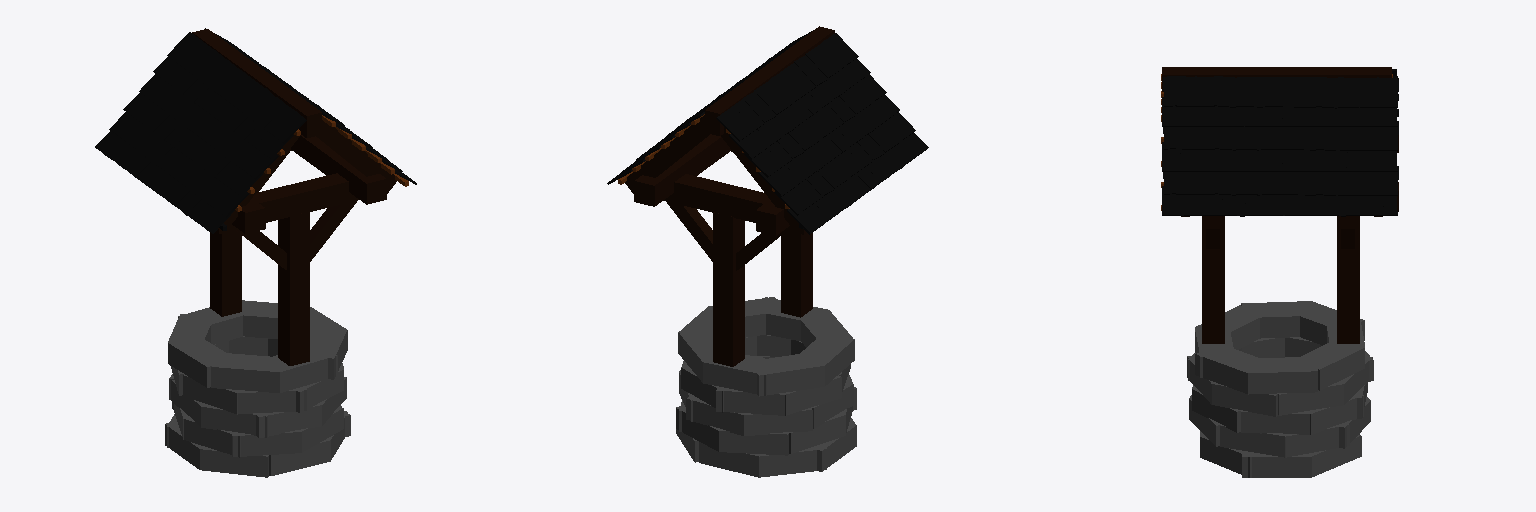
Rendered from firstMaterials_well.obj.
The picture shows the model from 3 angles: view 1: azimuth 30°, elevation 25°; view 2: azimuth 150°, elevation 25°; view 3: azimuth 270°, elevation 25°; orthographic projection.
Visible parts, largest first — view 1: post.001_Cube.029, beam_Cube.030, post_Cube.028, Cube.004_Cube.042, brick.038_Cube.026, beam.003_Cube.033, brick.037_Cube.027, brick.012_Cube.014, Cube.003_Cube.041, brick.005_Cube.011, brick.016_Cube.016, brick.031_Cube.023 (+18 smaller); view 2: post_Cube.028, beam.001_Cube.031, post.001_Cube.029, beam.003_Cube.033, Cube.004_Cube.042, brick.036_Cube.026, brick.037_Cube.027, Cube.001_Cube.039, brick.035_Cube.025, brick.009_Cube.013, brick.028_Cube.022, brick.021_Cube.019 (+19 smaller); view 3: post_Cube.028, post.001_Cube.029, Cube.004_Cube.042, brick.033_Cube.025, brick.032_Cube.024, brick.037_Cube.027, brick.034_Cube.024, brick_Cube.001, brick.018_Cube.016, brick.026_Cube.020, brick.025_Cube.021, brick.014_Cube.014 (+25 smaller).
Boxes of the visible parts, box(x1,y1,x2,y2) form: post.001_Cube.029: box(278, 212, 309, 365); beam_Cube.030: box(216, 173, 358, 233); post_Cube.028: box(210, 230, 241, 316); Cube.004_Cube.042: box(192, 29, 321, 137); brick.038_Cube.026: box(211, 352, 283, 392); beam.003_Cube.033: box(291, 135, 386, 204); brick.037_Cube.027: box(168, 334, 227, 387); brick.012_Cube.014: box(231, 430, 301, 456); Cube.003_Cube.041: box(316, 120, 396, 193); brick.005_Cube.011: box(200, 447, 268, 477); brick.016_Cube.016: box(255, 403, 321, 437); brick.031_Cube.023: box(237, 389, 306, 413); post_Cube.028: box(713, 212, 744, 366); beam.001_Cube.031: box(663, 174, 806, 234); post.001_Cube.029: box(781, 231, 812, 317); beam.003_Cube.033: box(634, 134, 731, 206); Cube.004_Cube.042: box(705, 26, 834, 135); brick.036_Cube.026: box(748, 354, 824, 396); brick.037_Cube.027: box(794, 333, 854, 385); Cube.001_Cube.039: box(625, 115, 709, 193); brick.035_Cube.025: box(703, 355, 766, 395); brick.009_Cube.013: box(719, 429, 788, 455); brick.028_Cube.022: box(716, 389, 784, 415); brick.021_Cube.019: box(743, 408, 812, 435); post_Cube.028: box(1337, 229, 1359, 343); post.001_Cube.029: box(1202, 229, 1224, 343); Cube.004_Cube.042: box(1162, 67, 1391, 91); brick.033_Cube.025: box(1248, 357, 1317, 394); brick.032_Cube.024: box(1195, 344, 1270, 393); brick.037_Cube.027: box(1241, 301, 1313, 338); brick.034_Cube.024: box(1294, 342, 1364, 390); brick_Cube.001: box(1242, 453, 1311, 477); brick.018_Cube.016: box(1241, 410, 1309, 434); brick.026_Cube.020: box(1278, 381, 1343, 415); brick.025_Cube.021: box(1212, 382, 1277, 416); brick.014_Cube.014: box(1220, 425, 1285, 457).
Bounding box in the file's own units: 5.12 × 8.75 × 5.12.